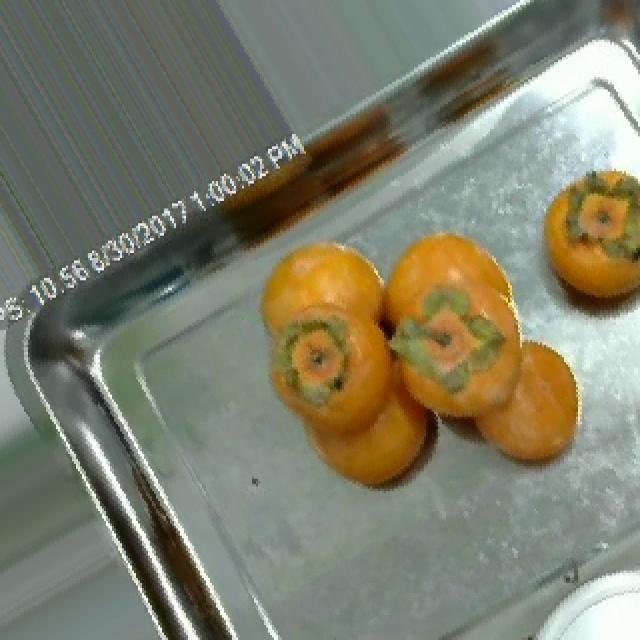Fruit: (418, 315, 602, 496), (526, 142, 640, 342)
